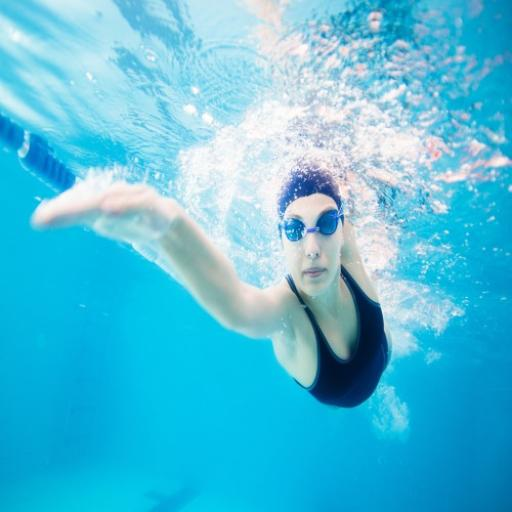swimming: (29, 148, 395, 410)
